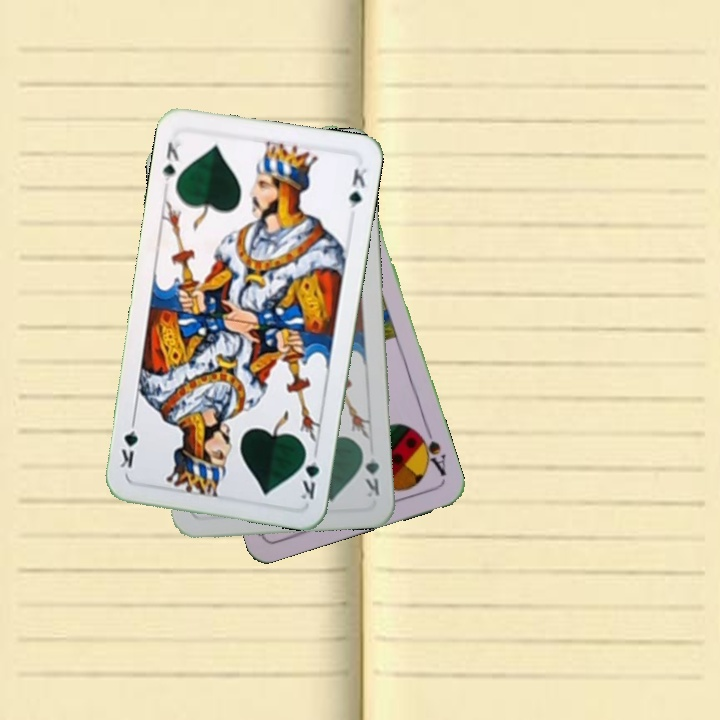GK: (296, 445, 322, 502), (158, 133, 184, 190), (358, 443, 382, 500)
SA: (412, 423, 449, 479)
